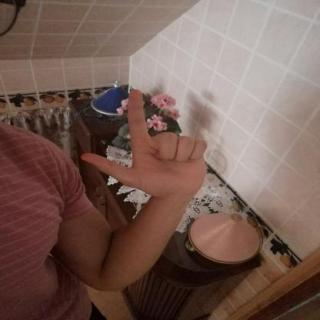LAAM: (68, 80, 220, 208)
